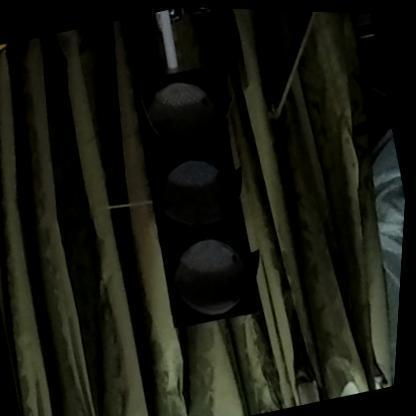green: (122, 60, 278, 328)
